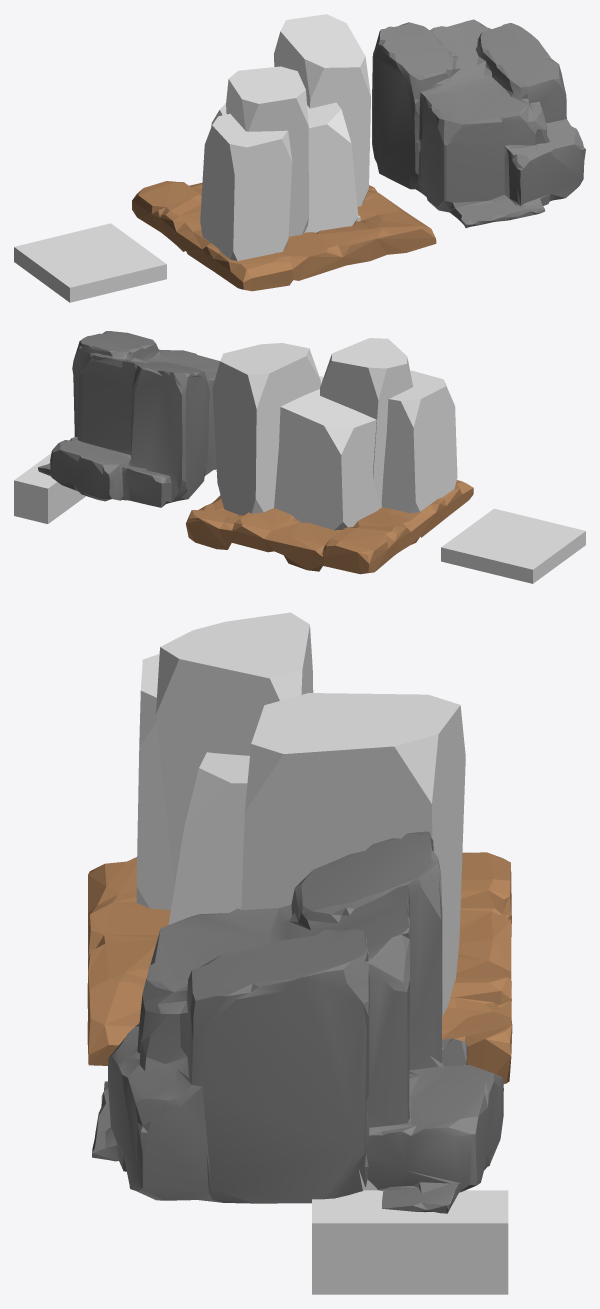
The model's file is lowpoly-rock-generator14.fbx.
3 renders of one model, top to bottom at view 1: azimuth 30°, elevation 25°; view 2: azimuth 150°, elevation 25°; view 3: azimuth 270°, elevation 25°, orthographic. The views are drawn at different scales.
Parts seen in each view (by area): view 1: Plane.001, Plane, tile_test, Cube.001; view 2: Plane, Plane.001, tile_test, Cube.001, Cube.003; view 3: Plane.001, Plane, tile_test, Cube.003.
Part boxes in pixels (bbox=[...]): Plane.001: bbox=[372, 19, 585, 227]; Plane: bbox=[200, 14, 370, 260]; tile_test: bbox=[132, 181, 436, 291]; Cube.001: bbox=[14, 223, 166, 302]; Plane: bbox=[212, 338, 457, 530]; Plane.001: bbox=[38, 331, 219, 507]; tile_test: bbox=[186, 480, 473, 574]; Cube.001: bbox=[441, 508, 585, 583]; Cube.003: bbox=[14, 453, 85, 523]; Plane.001: bbox=[92, 831, 503, 1213]; Plane: bbox=[136, 612, 465, 1016]; tile_test: bbox=[87, 852, 512, 1083]; Cube.003: bbox=[312, 1190, 508, 1294].
Bounding box in the file's own units: 1074 × 391 × 401.
